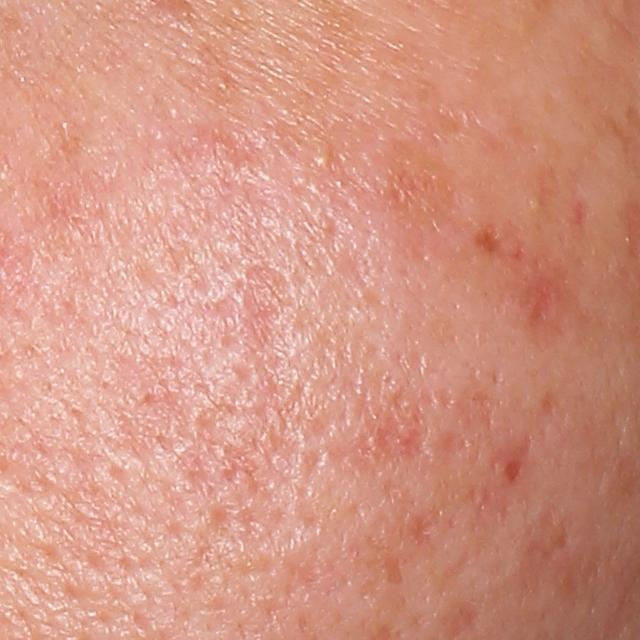comedo: (308, 150, 334, 169)
